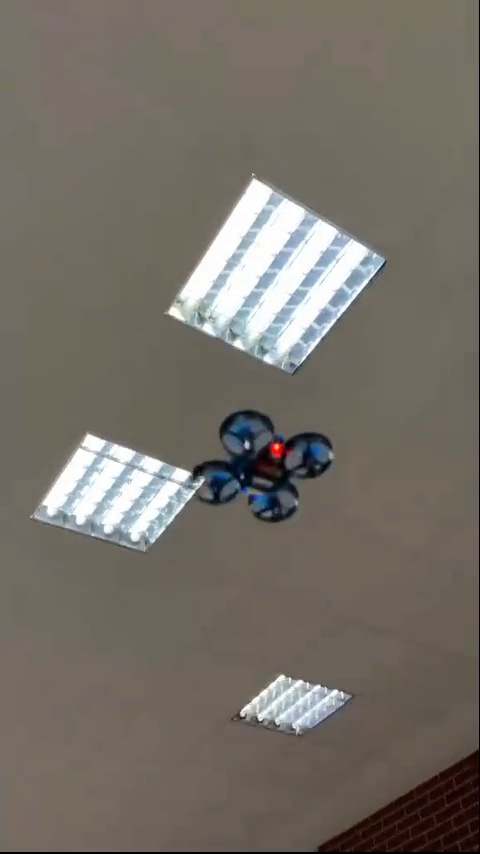drone: (192, 412, 336, 527)
